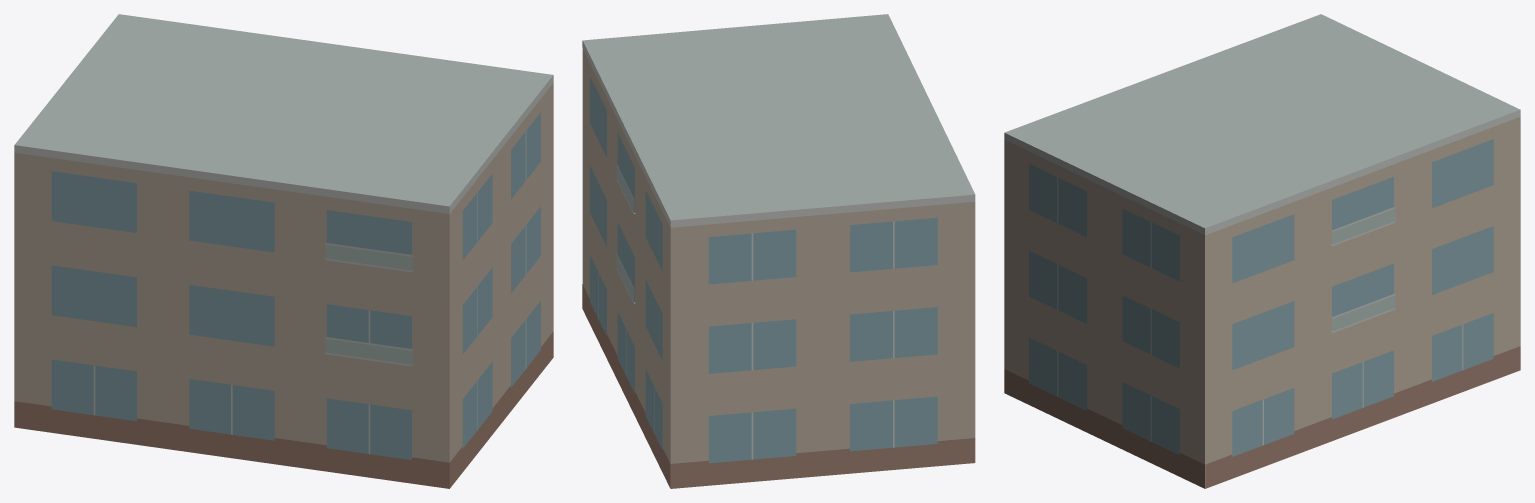
The model's file is survey-upis-32687660.glb.
3 views of the same model, side by side, from view 1: azimuth 30°, elevation 25°; view 2: azimuth 150°, elevation 25°; view 3: azimuth 270°, elevation 25° (orthographic). The views are drawn at different scales.
Visible parts, largest first — view 1: survey-upis-32687660.tmp; view 2: survey-upis-32687660.tmp; view 3: survey-upis-32687660.tmp.
Part boxes in pixels (box(x1,y1,x2,y2)): survey-upis-32687660.tmp: box(14, 14, 553, 488); survey-upis-32687660.tmp: box(582, 14, 975, 488); survey-upis-32687660.tmp: box(1004, 14, 1520, 488).
Bounding box in the file's own units: 16.16 × 9.15 × 16.45.
